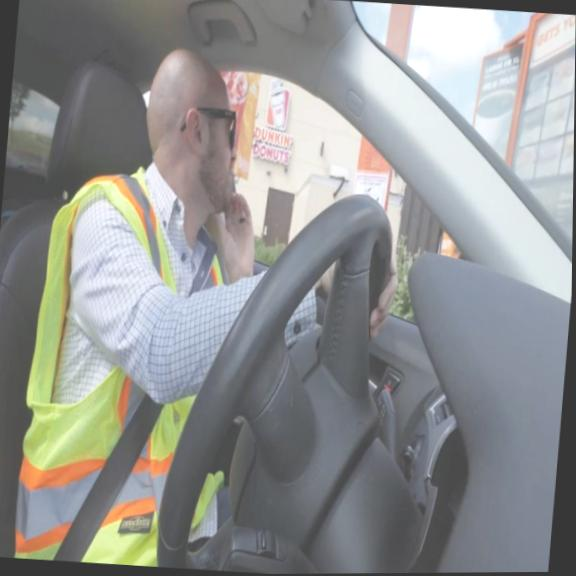safety_vest: (13, 153, 252, 572)
